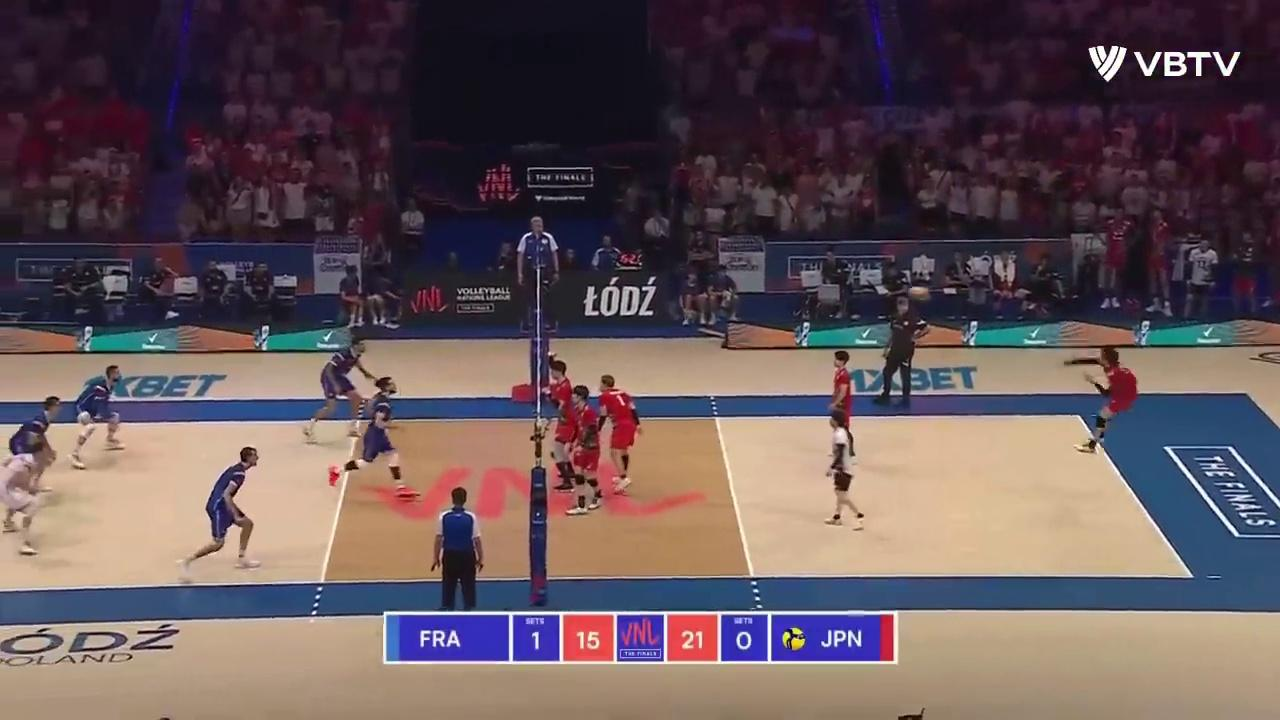ball: (911, 286, 932, 300)
